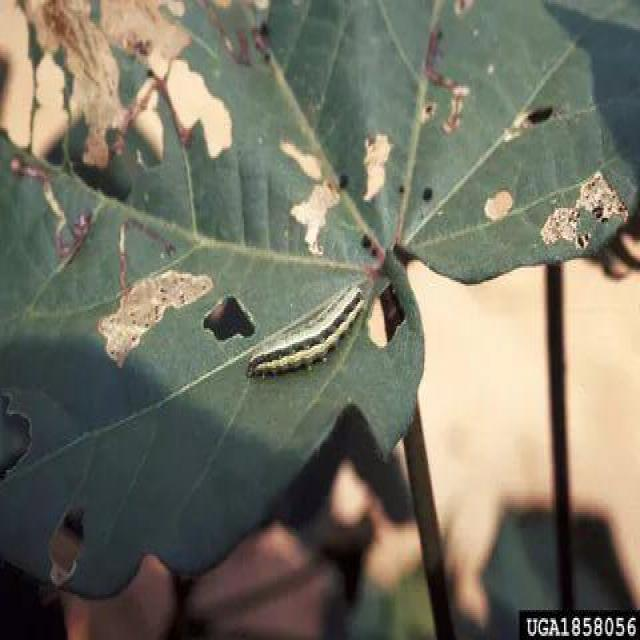BeetArmyWorm-Larva-: (242, 282, 368, 386)
